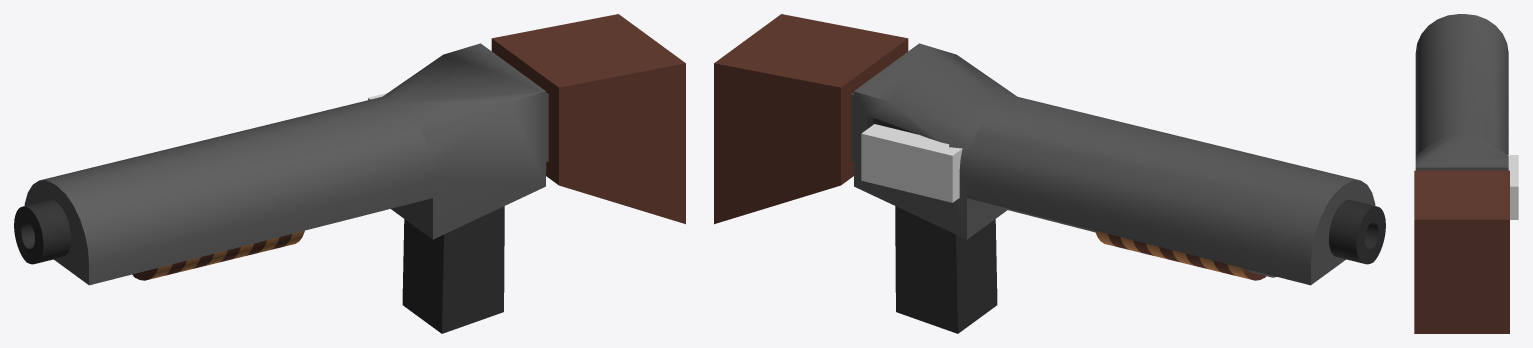
File: ShootGun.fbx
3 views of the same model, side by side, from view 1: azimuth 30°, elevation 25°; view 2: azimuth 150°, elevation 25°; view 3: azimuth 270°, elevation 25° (orthographic). The views are drawn at different scales.
Parts seen in each view (by area): view 1: Cube; view 2: Cube, Cube.003; view 3: Cube, Cube.003.
Part boxes in pixels (x1,y1,x2,y2): Cube: [14, 14, 685, 333]; Cube: [714, 14, 1385, 333]; Cube.003: [861, 124, 962, 202]; Cube: [1414, 14, 1509, 333]; Cube.003: [1508, 155, 1518, 219].
Bounding box in the file's own units: 1072 × 379 × 218.
